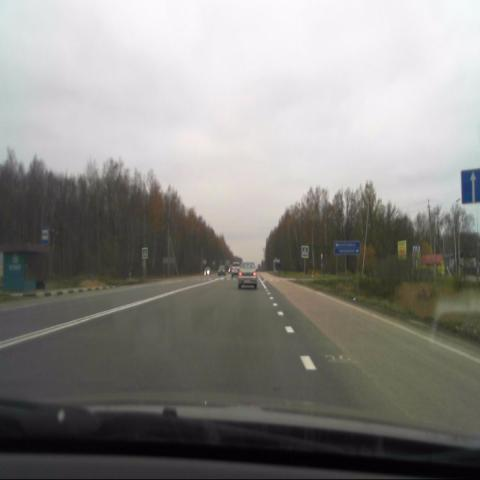5_16: (41, 228, 49, 244)
5_19_1: (142, 247, 148, 260), (301, 246, 308, 257)
